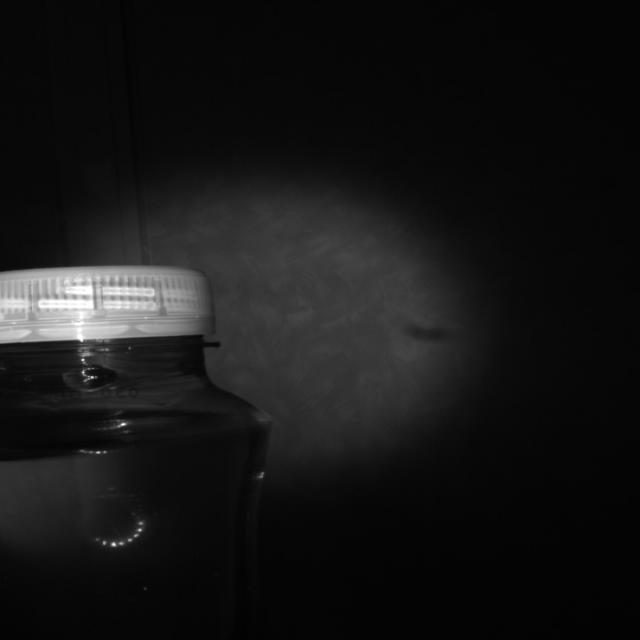Good: (0, 263, 210, 344)
